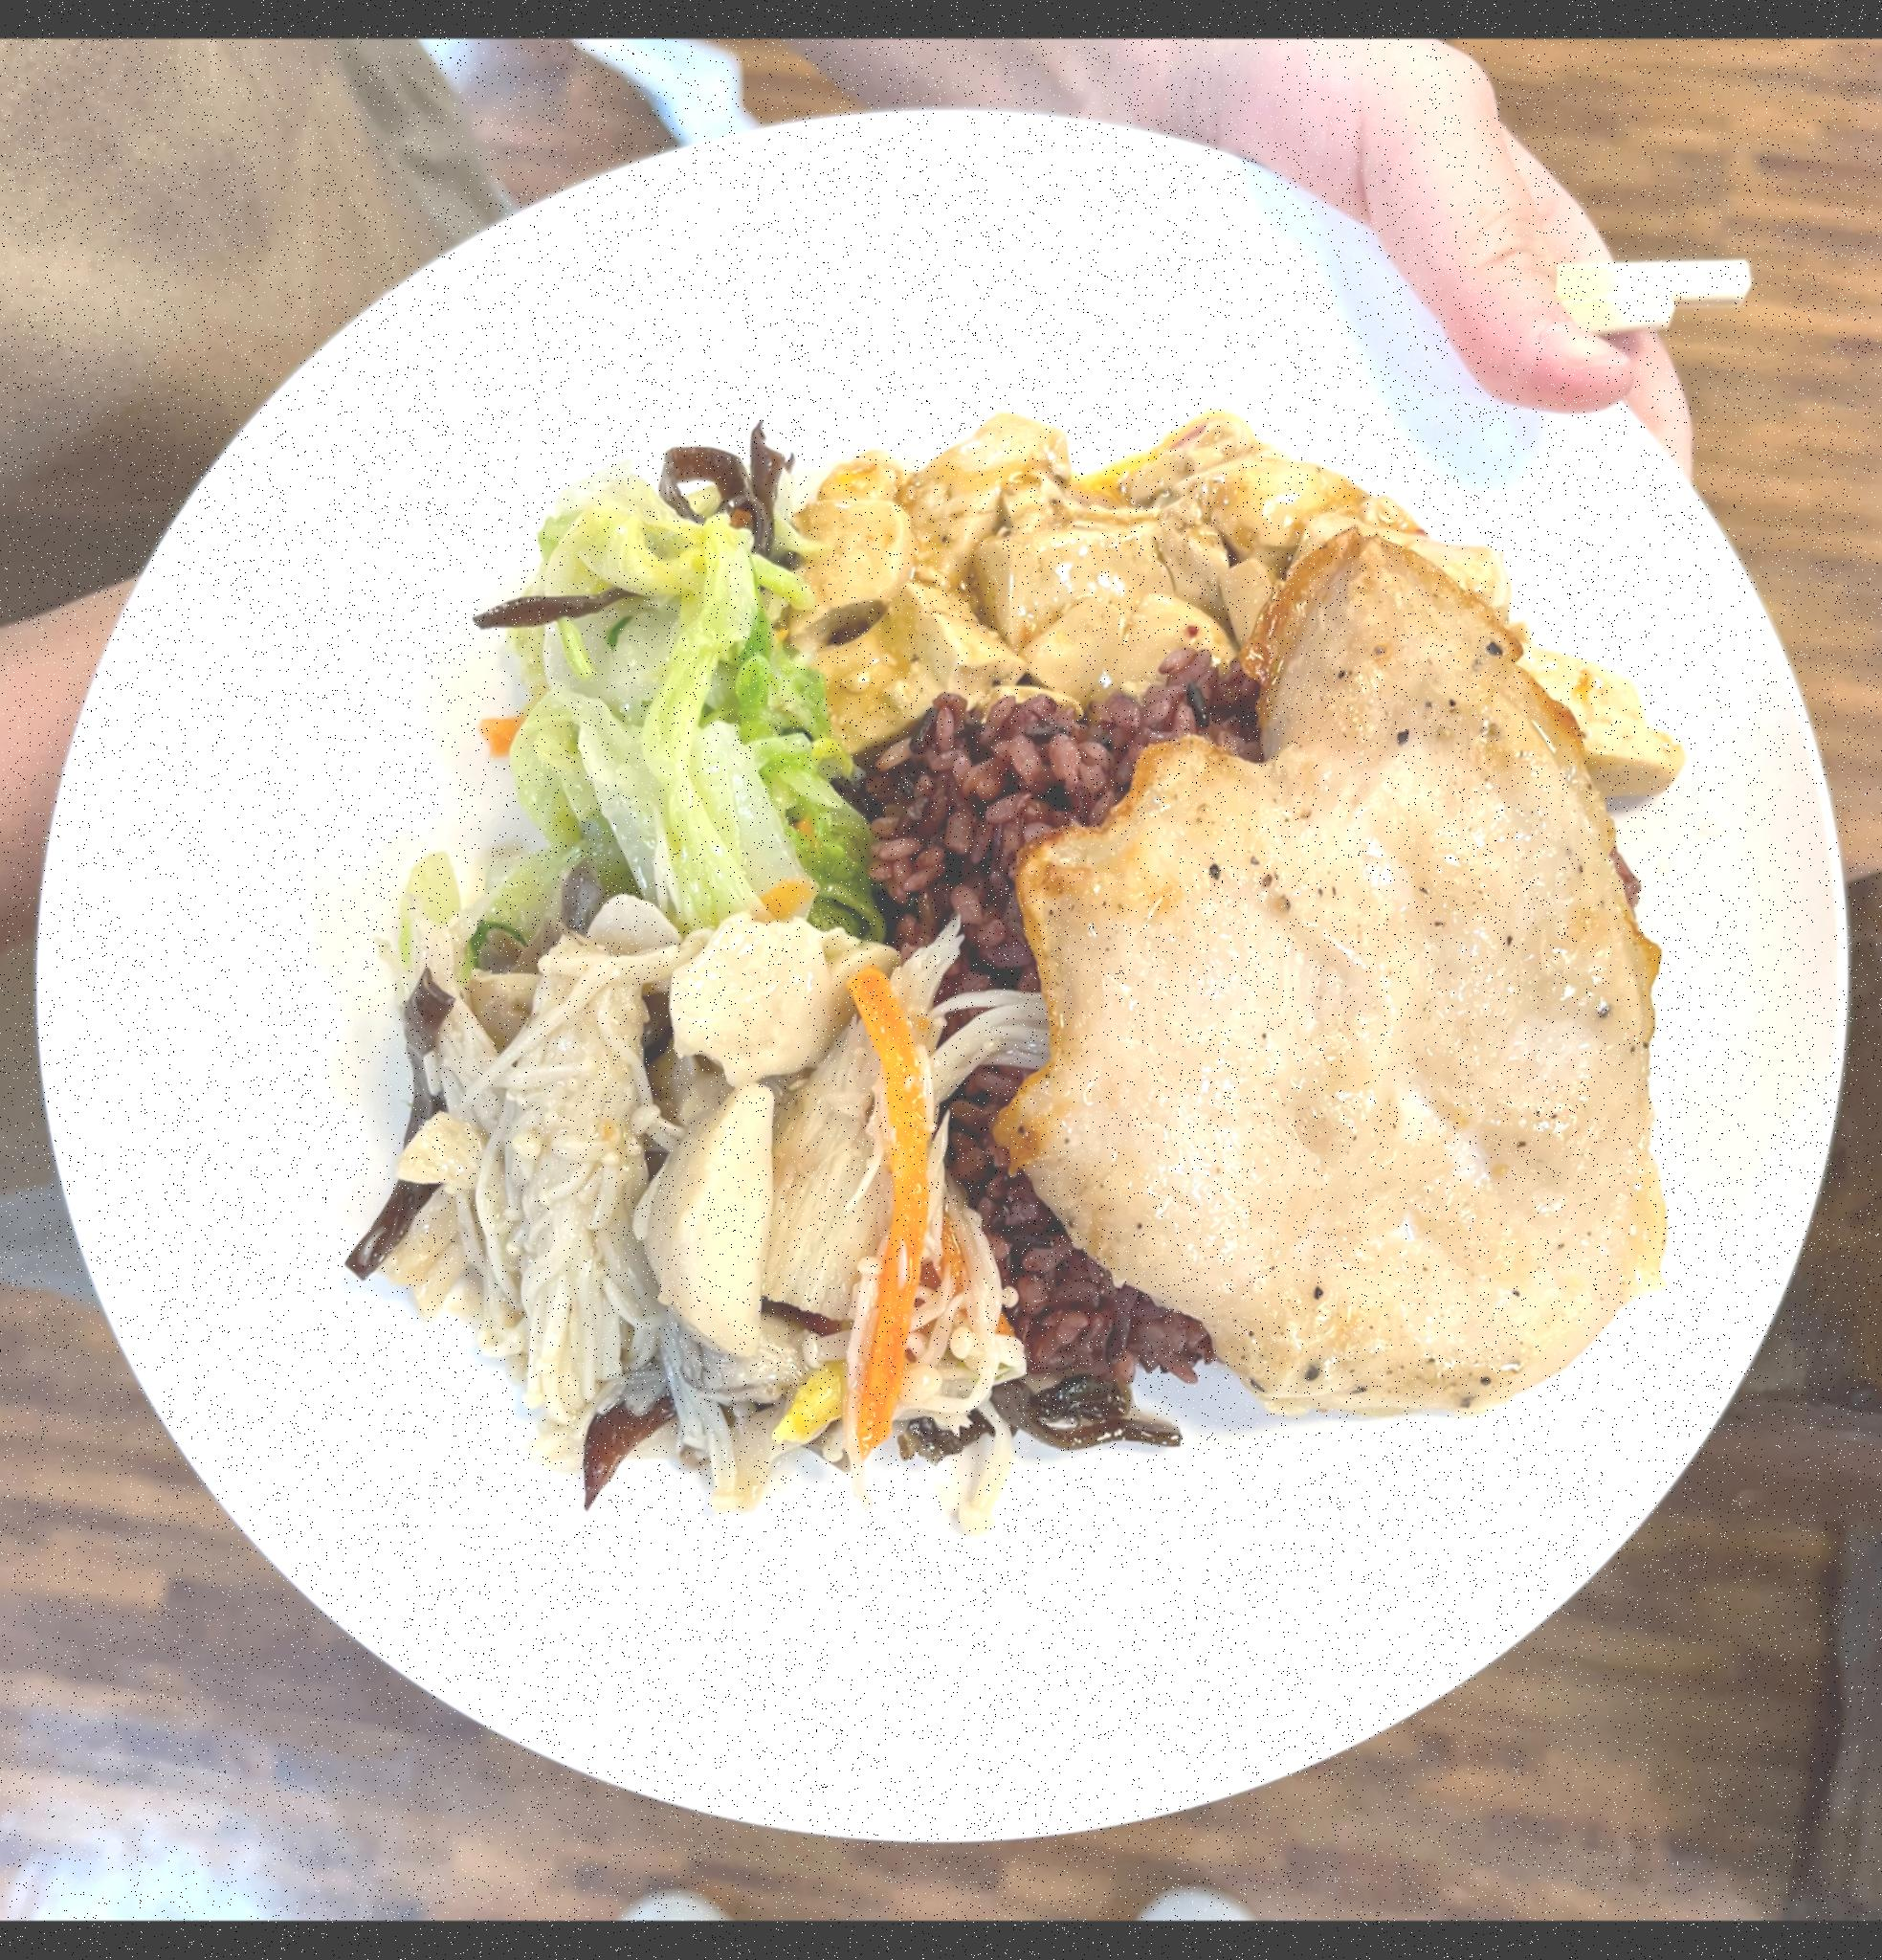big fried chicken leg: (40, 89, 1858, 1869)
braised fish: (862, 661, 1322, 1479)
braised fish fillet: (374, 887, 1004, 1489), (792, 413, 1424, 742), (519, 432, 868, 1006)
braised pork: (1042, 528, 1677, 1416)
